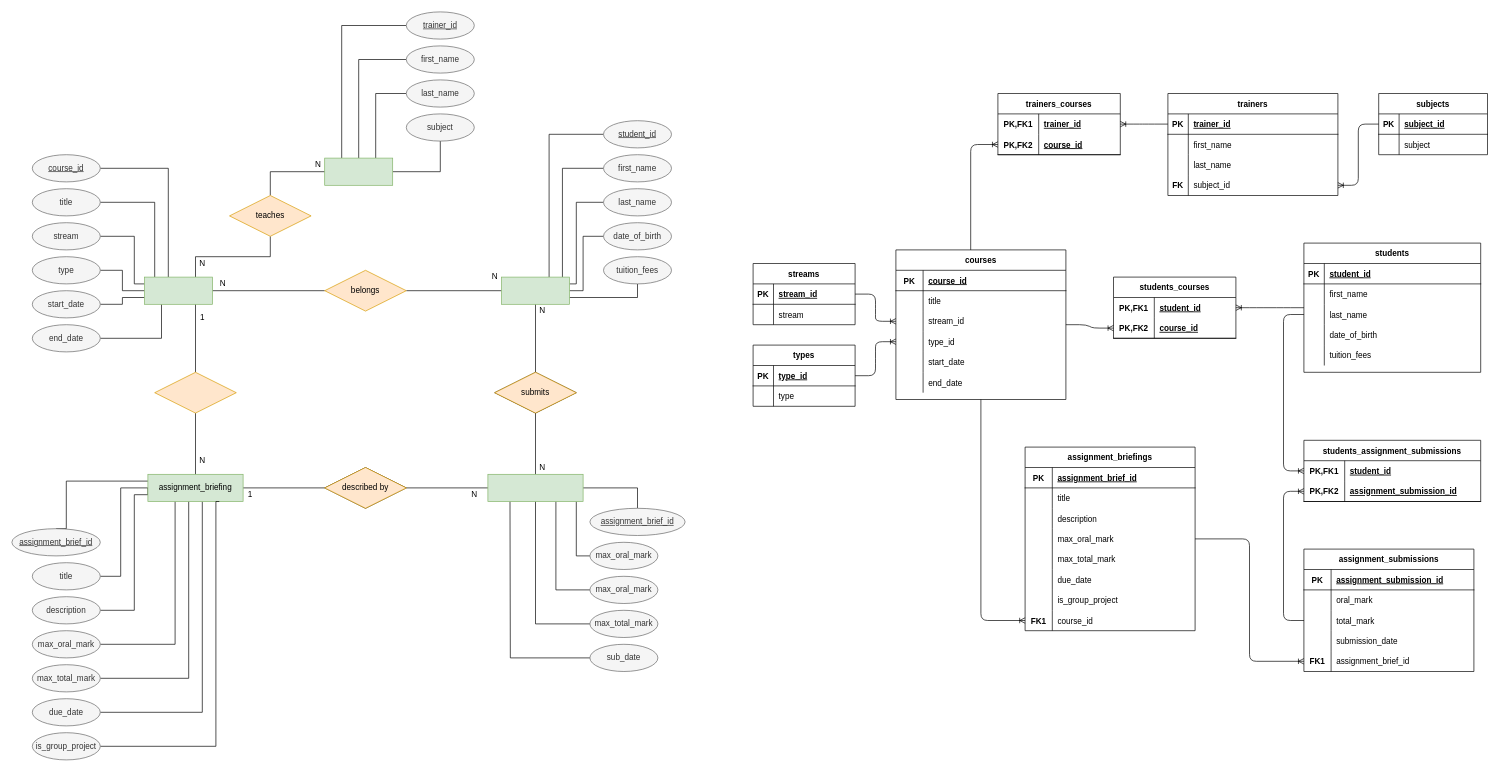
The diagram is 1499 pixels wide and 772 high, and some of its shapes have lost their labels. The shapes that lost their labels are listed below. From the top down, each one's centre as x and y in pixels, then its label:
the point at 358,171: trainer
the point at 178,290: course
the point at 535,290: student
the point at 195,392: have
the point at 535,488: assignment_submission
